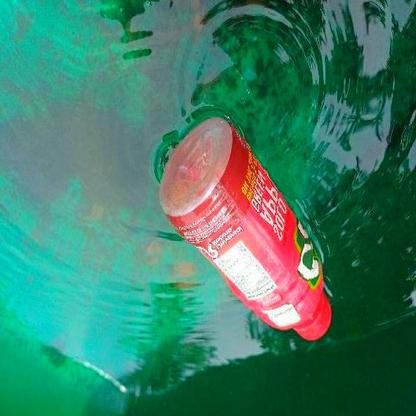plastic bottle: (159, 116, 332, 342)
